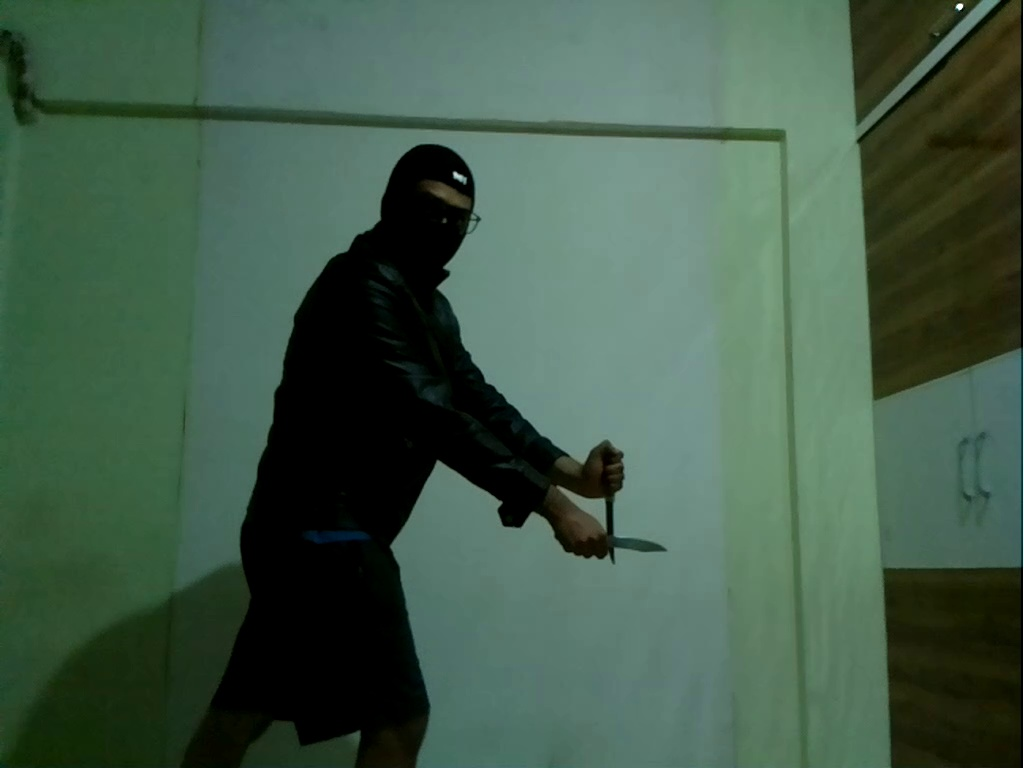knife: (601, 530, 674, 557)
